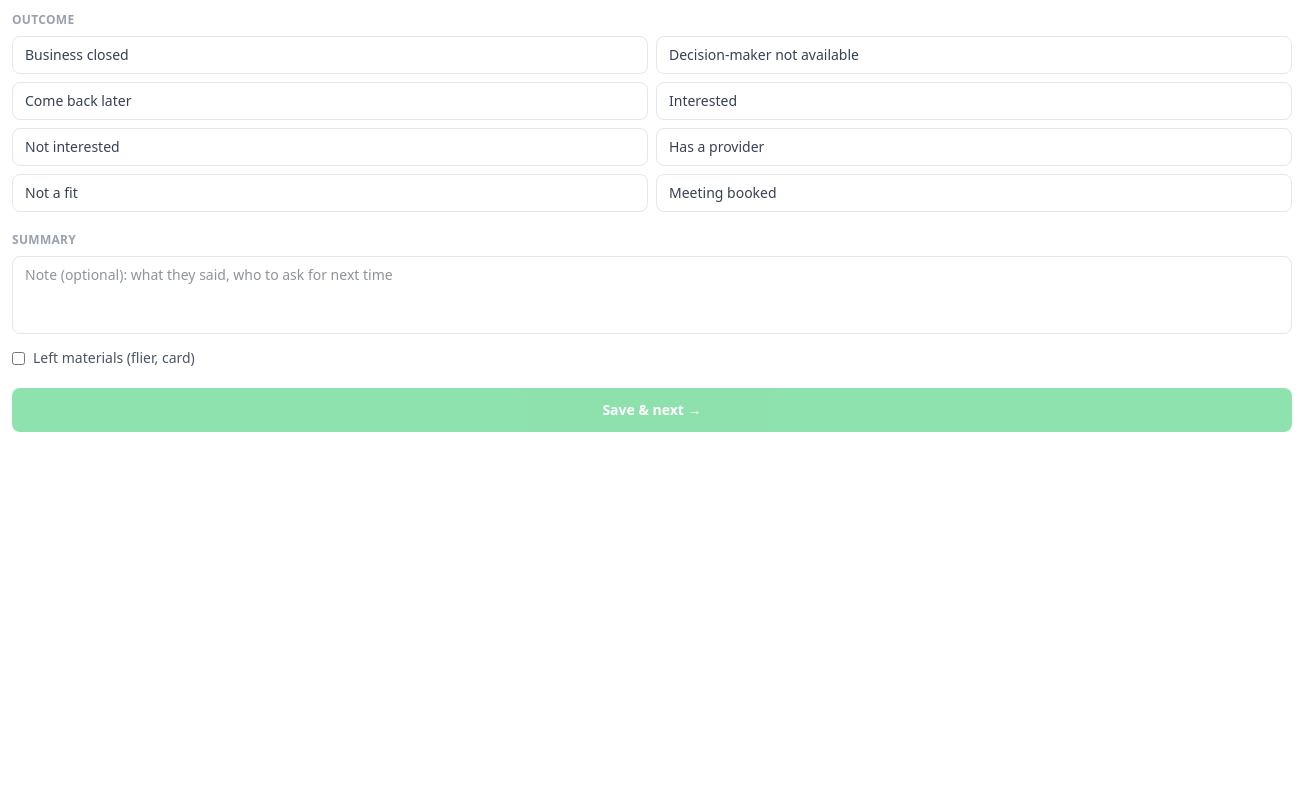
Test case: LogVisitForm: going back › offers a time to go back with Interested
What coordinates should you click on to do the following:
click the button "Interested"
I would click on:
 (703, 100)
Its box is x1=656 y1=82 x2=1292 y2=120.
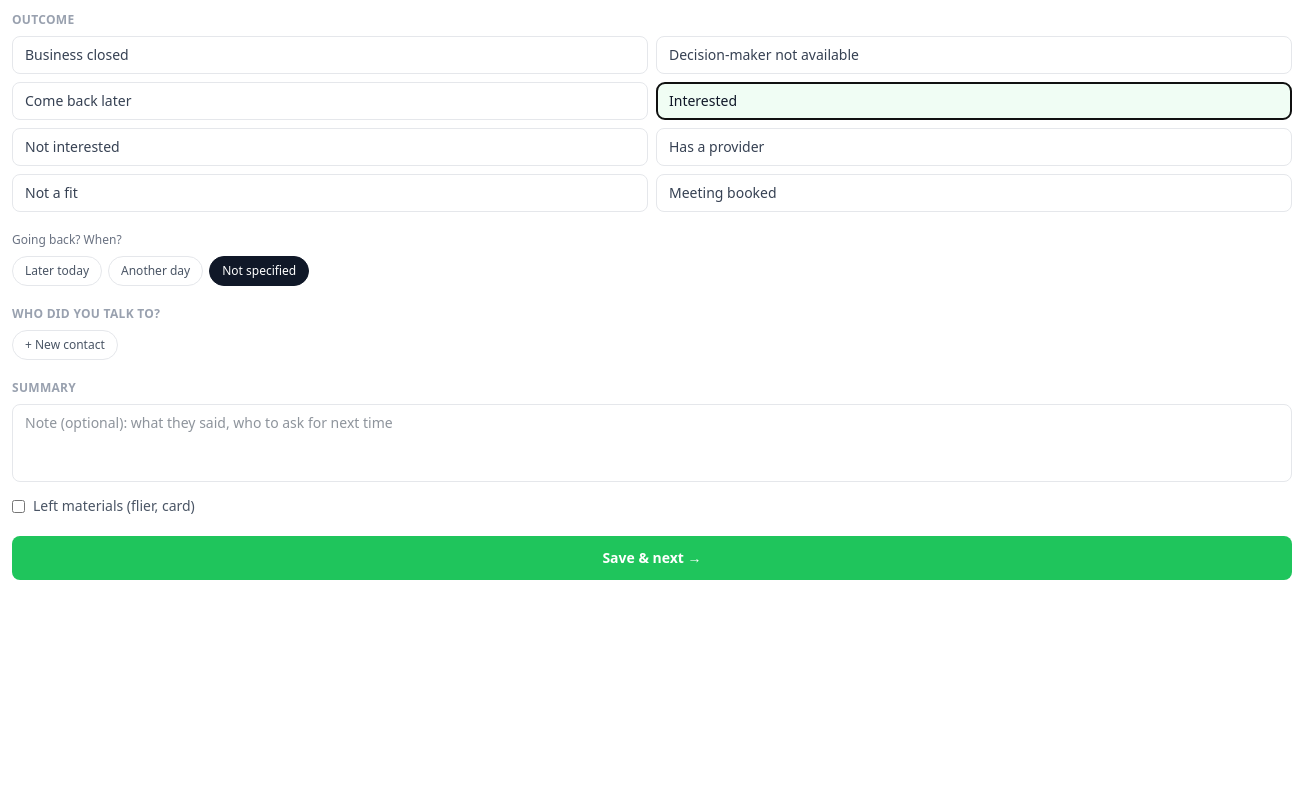
Expected: the text "Going back? When?" is shown, x1=12 y1=231 x2=122 y2=248
Expected: the button "Later today" is shown, x1=12 y1=256 x2=102 y2=286
